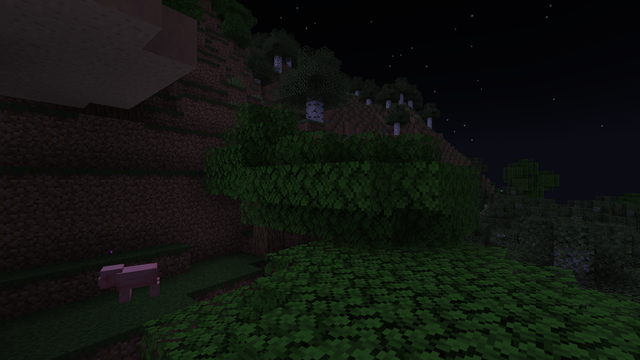cochons: (116, 260, 159, 305)
